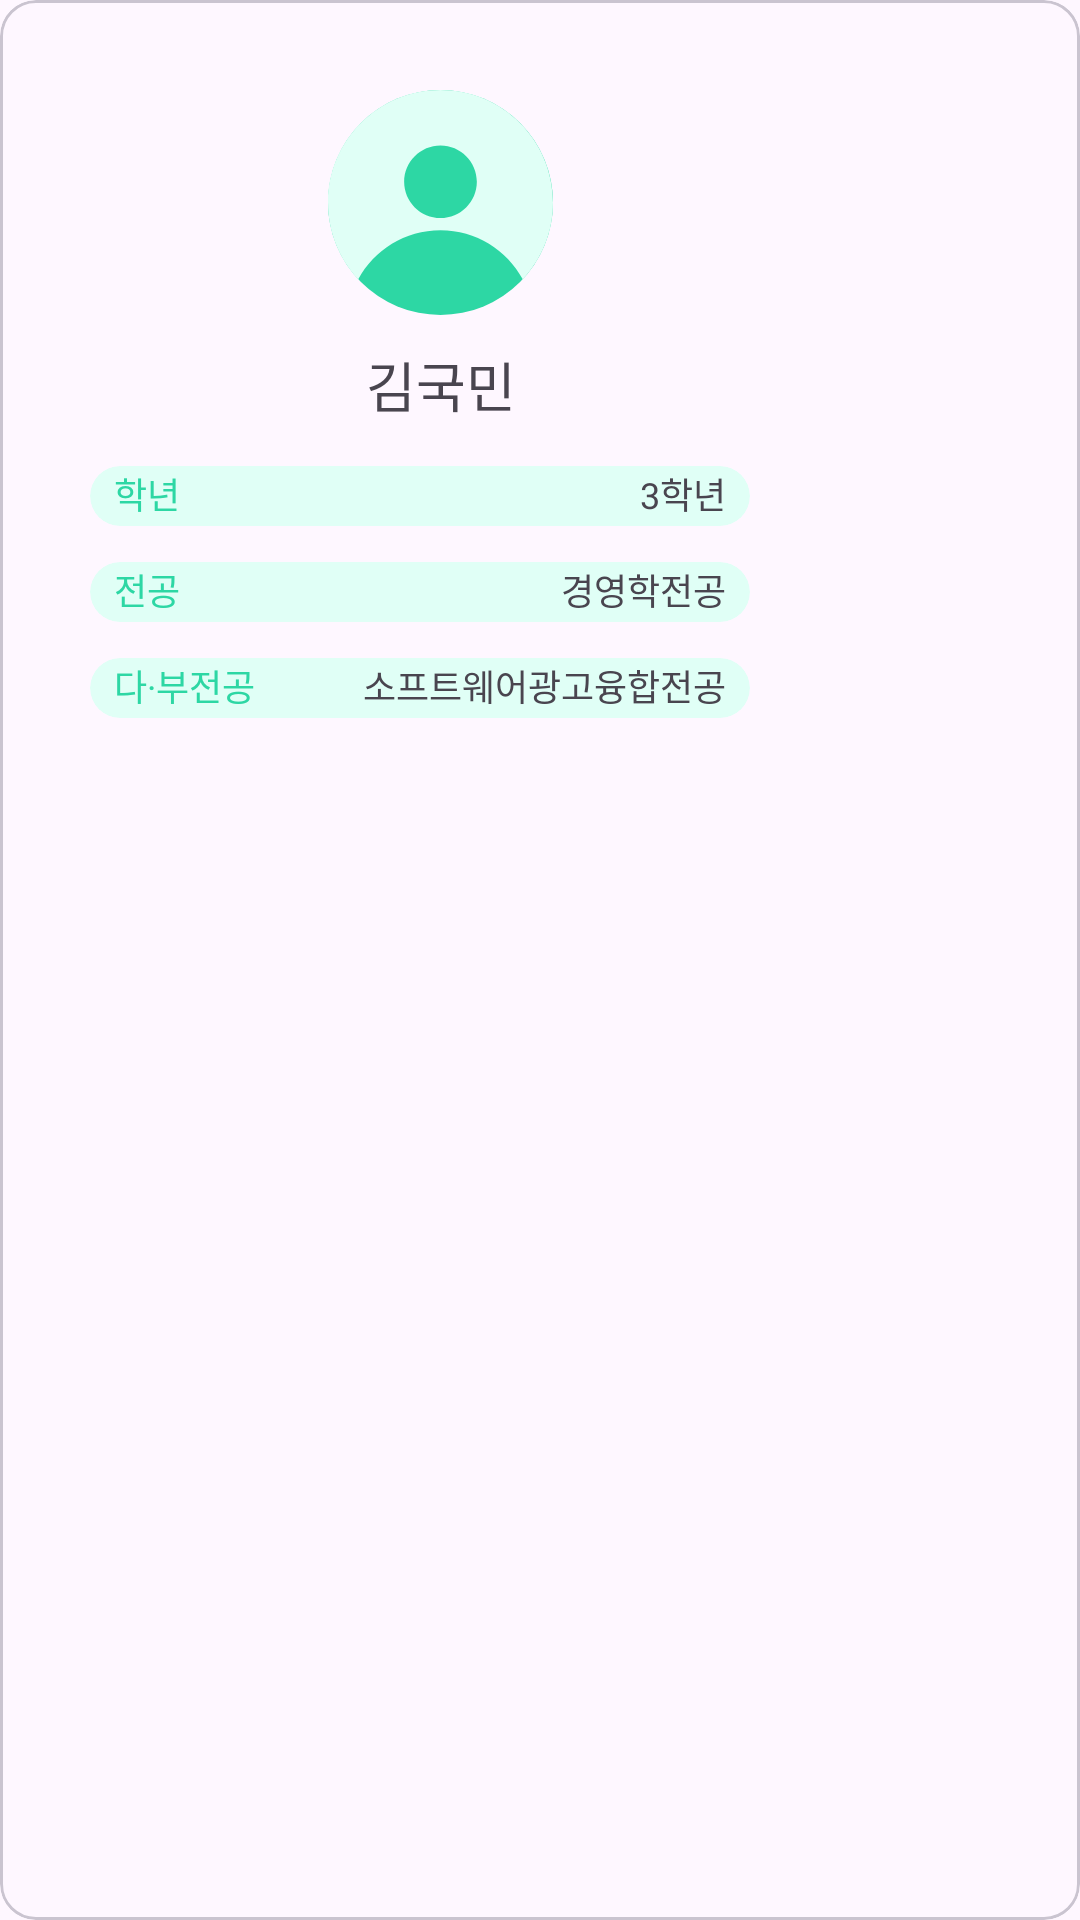

Screen size 1080px×1920px. Icon name, then its box in pixels as (x1, y1, x2, y2):
profile reverse: (328, 90, 553, 315)
